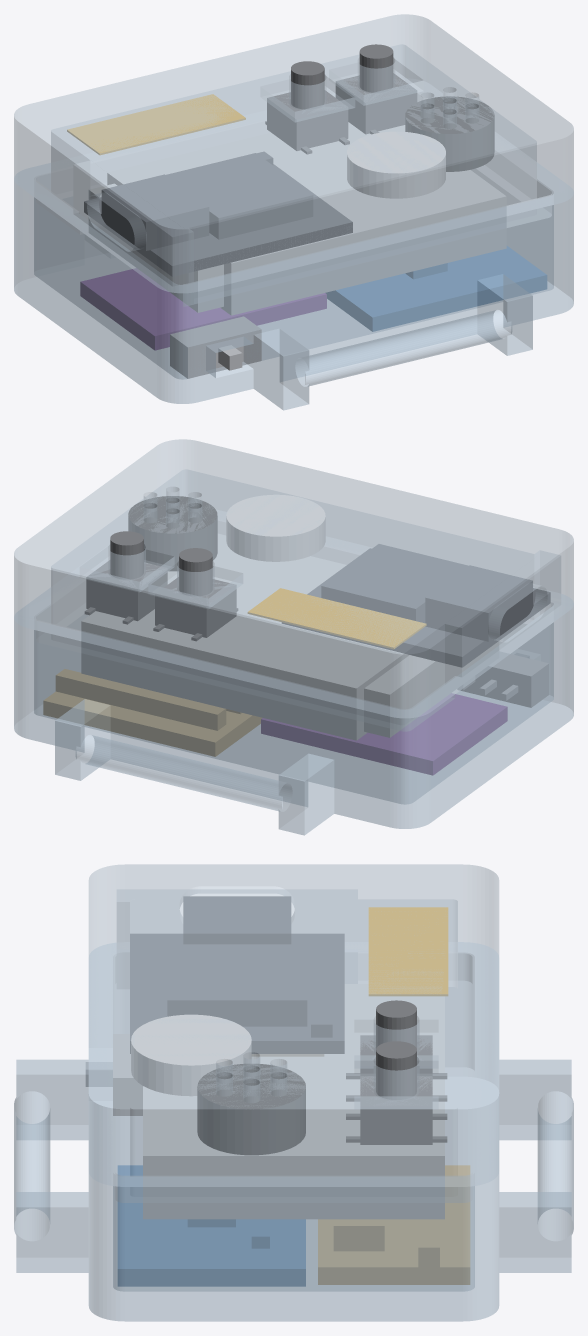
File: assembly_xiao.glb
3 views of the same model, one above another, from view 1: azimuth 30°, elevation 25°; view 2: azimuth 150°, elevation 25°; view 3: azimuth 270°, elevation 25° (orthographic). The views are drawn at different scales.
Parts seen in each view (by area): view 1: Case lid, Case base, LiPo 602535, XIAO ESP32-S3, MPU6050 GY-521, MAX30102, Vibration motor 1027, Button A, FPC antenna, Buzzer 9042, Button B, Power switch SS12D00; view 2: Case lid, Case base, LiPo 602535, XIAO ESP32-S3, Driver strip, MAX30102, Vibration motor 1027, FPC antenna, Button A, Button B, Buzzer 9042, Power switch SS12D00; view 3: Case lid, Case base, LiPo 602535, XIAO ESP32-S3, MPU6050 GY-521, Driver strip, Buzzer 9042, Vibration motor 1027, FPC antenna, Button B, Button A, Power switch SS12D00.
Boxes of the visible parts, x1=… form: Case lid: x1=14, y1=14, x2=573, y2=305; Case base: x1=14, y1=162, x2=573, y2=410; LiPo 602535: x1=89, y1=122, x2=506, y2=315; XIAO ESP32-S3: x1=84, y1=151, x2=352, y2=276; MPU6050 GY-521: x1=326, y1=246, x2=546, y2=331; MAX30102: x1=80, y1=268, x2=326, y2=350; Vibration motor 1027: x1=347, y1=131, x2=445, y2=198; Button A: x1=265, y1=61, x2=349, y2=154; FPC antenna: x1=67, y1=94, x2=245, y2=155; Buzzer 9042: x1=405, y1=96, x2=494, y2=171; Button B: x1=335, y1=44, x2=417, y2=134; Power switch SS12D00: x1=170, y1=316, x2=261, y2=378; Case lid: x1=14, y1=439, x2=573, y2=730; Case base: x1=14, y1=587, x2=573, y2=835; LiPo 602535: x1=81, y1=533, x2=499, y2=740; XIAO ESP32-S3: x1=282, y1=544, x2=550, y2=667; Driver strip: x1=43, y1=669, x2=261, y2=756; MAX30102: x1=261, y1=693, x2=507, y2=775; Vibration motor 1027: x1=226, y1=494, x2=325, y2=561; FPC antenna: x1=247, y1=588, x2=426, y2=649; Button A: x1=153, y1=548, x2=238, y2=641; Button B: x1=84, y1=531, x2=167, y2=624; Buzzer 9042: x1=128, y1=496, x2=217, y2=571; Power switch SS12D00: x1=458, y1=652, x2=548, y2=707; Case lid: x1=88, y1=864, x2=499, y2=1202; Case base: x1=14, y1=942, x2=573, y2=1321; LiPo 602535: x1=143, y1=984, x2=444, y2=1218; XIAO ESP32-S3: x1=130, y1=896, x2=344, y2=1053; MPU6050 GY-521: x1=117, y1=1165, x2=305, y2=1286; Driver strip: x1=318, y1=1165, x2=470, y2=1284; Buzzer 9042: x1=197, y1=1064, x2=305, y2=1155; Vibration motor 1027: x1=131, y1=1014, x2=251, y2=1096; FPC antenna: x1=368, y1=907, x2=448, y2=996; Button B: x1=346, y1=1041, x2=447, y2=1144; Button A: x1=346, y1=1000, x2=447, y2=1101; Power switch SS12D00: x1=86, y1=1034, x2=142, y2=1115.
Bounding box in the file's own units: 0.048 × 0.0204 × 0.0464.
